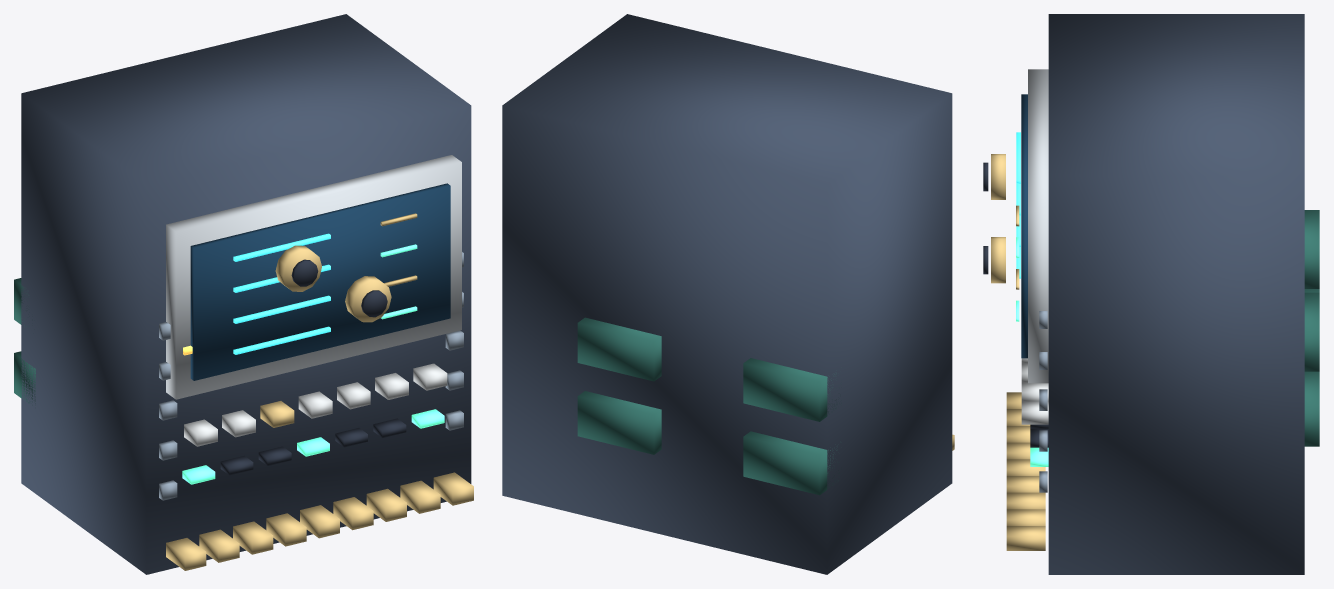
The model's file is 71_L91_GuidanceNavigationComputer.glb.
3 views of the same model, side by side, from view 1: azimuth 30°, elevation 25°; view 2: azimuth 150°, elevation 25°; view 3: azimuth 270°, elevation 25° (orthographic). The views are drawn at different scales.
Parts seen in each view (by area): view 1: L91_GuidanceNavigationCompute_Part_0000, L91_GuidanceNavigationCompute_Part_0002, L91_GuidanceNavigationCompute_Part_0001, L91_GuidanceNavigationCompute_Part_0004, L91_GuidanceNavigationCompute_Part_0006, L91_GuidanceNavigationCompute_Part_0008, L91_GuidanceNavigationCompute_Part_0003, L91_GuidanceNavigationCompute_Part_0007, L91_GuidanceNavigationCompute_Part_0005, L91_GuidanceNavigationCompute_Part_0009, L91_GuidanceNavigationCompute_Part_0014, L91_GuidanceNavigationCompute_Part_0012; view 2: L91_GuidanceNavigationCompute_Part_0000, L91_GuidanceNavigationCompute_Part_0009; view 3: L91_GuidanceNavigationCompute_Part_0000, L91_GuidanceNavigationCompute_Part_0001, L91_GuidanceNavigationCompute_Part_0004, L91_GuidanceNavigationCompute_Part_0009, L91_GuidanceNavigationCompute_Part_0002, L91_GuidanceNavigationCompute_Part_0006, L91_GuidanceNavigationCompute_Part_0008, L91_GuidanceNavigationCompute_Part_0014, L91_GuidanceNavigationCompute_Part_0012, L91_GuidanceNavigationCompute_Part_0003, L91_GuidanceNavigationCompute_Part_0005.
Part boxes in pixels (x1,y1,x2,y2): L91_GuidanceNavigationCompute_Part_0000: (21, 14, 471, 574); L91_GuidanceNavigationCompute_Part_0002: (190, 183, 450, 380); L91_GuidanceNavigationCompute_Part_0001: (166, 155, 461, 399); L91_GuidanceNavigationCompute_Part_0004: (166, 213, 473, 570); L91_GuidanceNavigationCompute_Part_0006: (184, 363, 447, 446); L91_GuidanceNavigationCompute_Part_0008: (159, 252, 463, 500); L91_GuidanceNavigationCompute_Part_0003: (233, 233, 330, 354); L91_GuidanceNavigationCompute_Part_0007: (220, 418, 406, 475); L91_GuidanceNavigationCompute_Part_0005: (182, 244, 444, 484); L91_GuidanceNavigationCompute_Part_0009: (14, 278, 35, 405); L91_GuidanceNavigationCompute_Part_0014: (345, 276, 391, 322); L91_GuidanceNavigationCompute_Part_0012: (275, 245, 321, 291); L91_GuidanceNavigationCompute_Part_0000: (502, 14, 952, 574); L91_GuidanceNavigationCompute_Part_0009: (577, 317, 841, 495); L91_GuidanceNavigationCompute_Part_0000: (1048, 14, 1304, 574); L91_GuidanceNavigationCompute_Part_0001: (1028, 69, 1048, 383); L91_GuidanceNavigationCompute_Part_0004: (1006, 205, 1045, 550); L91_GuidanceNavigationCompute_Part_0009: (1304, 210, 1319, 446); L91_GuidanceNavigationCompute_Part_0002: (1021, 94, 1027, 358); L91_GuidanceNavigationCompute_Part_0006: (1021, 358, 1048, 424); L91_GuidanceNavigationCompute_Part_0008: (1039, 311, 1047, 492); L91_GuidanceNavigationCompute_Part_0014: (991, 237, 1005, 283); L91_GuidanceNavigationCompute_Part_0012: (991, 154, 1005, 199); L91_GuidanceNavigationCompute_Part_0003: (1016, 132, 1020, 278); L91_GuidanceNavigationCompute_Part_0005: (1016, 237, 1048, 466).
Bounding box in the file's own units: 1.08 × 1.23 × 0.9429.
